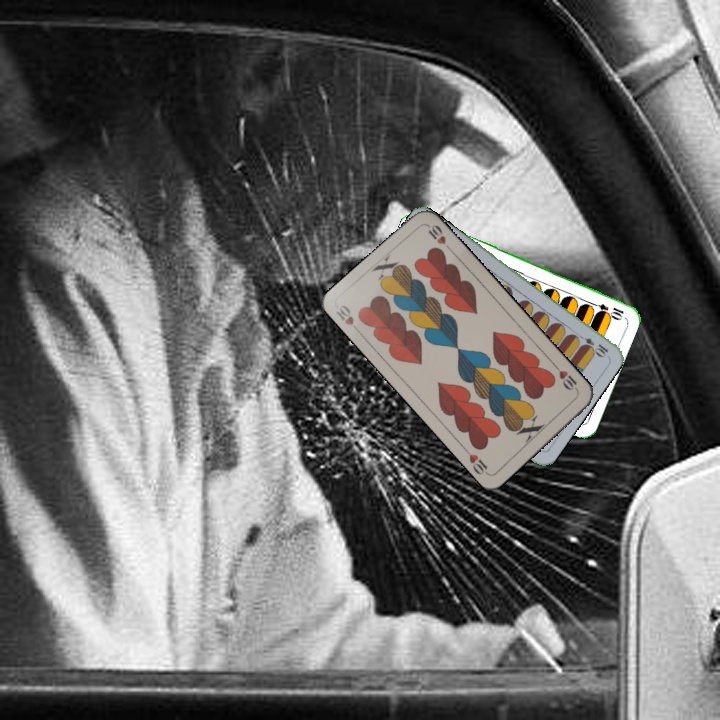E10: (573, 330, 611, 359), (587, 298, 627, 320)
H10: (332, 301, 364, 337), (550, 361, 581, 395)
